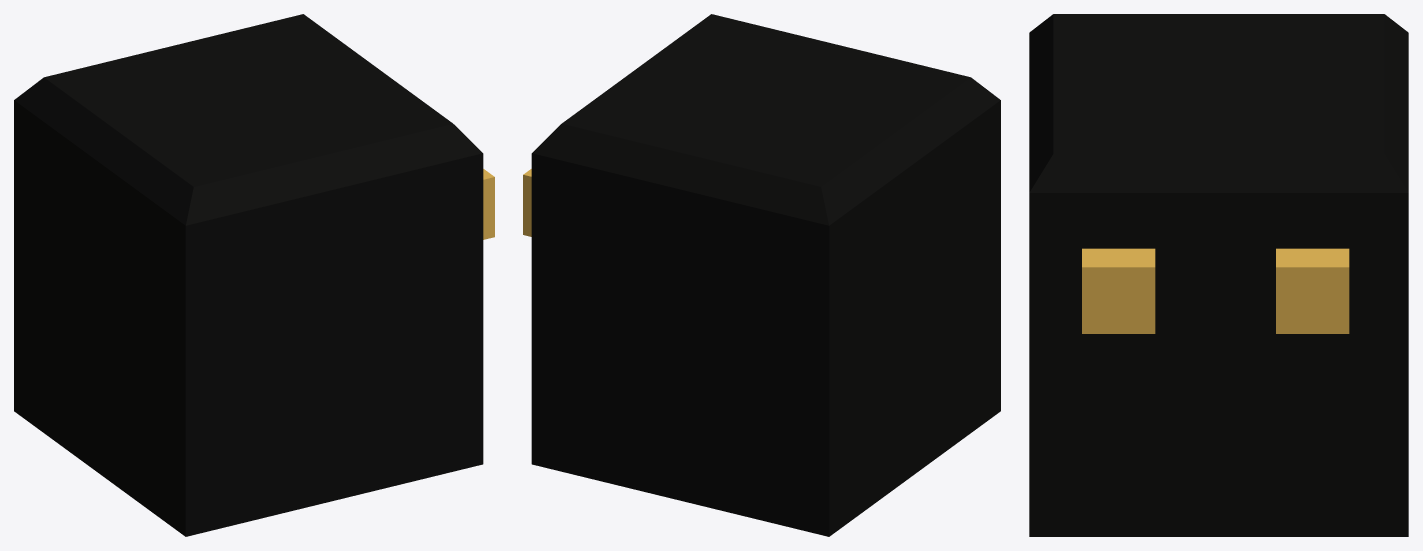
File: LittleNight.fbx
3 views of the same model, side by side, from view 1: azimuth 30°, elevation 25°; view 2: azimuth 150°, elevation 25°; view 3: azimuth 270°, elevation 25° (orthographic). The views are drawn at different scales.
Visible parts, largest first — view 1: Cube.058; view 2: Cube.058; view 3: Cube.058.
Part boxes in pixels (bbox=[...]): Cube.058: bbox=[14, 14, 494, 536]; Cube.058: bbox=[523, 14, 1000, 536]; Cube.058: bbox=[1029, 14, 1408, 536].
Bounding box in the file's own units: 0.8096 × 0.784 × 0.7232.
